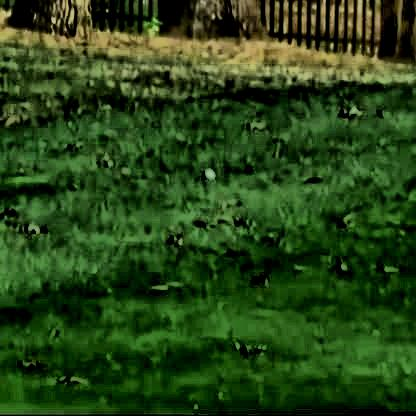golfball: (202, 165, 212, 176)
